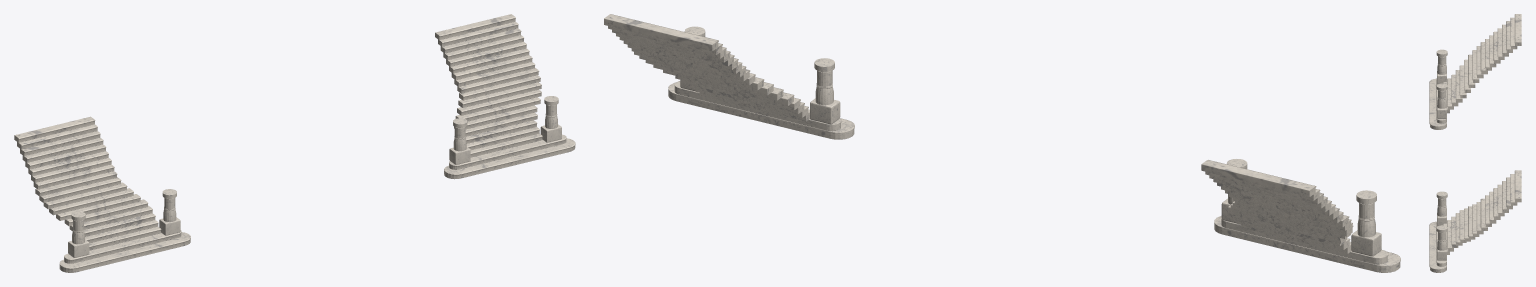
File: stairs_main_reversed.fbx
3 views of the same model, side by side, from view 1: azimuth 30°, elevation 25°; view 2: azimuth 150°, elevation 25°; view 3: azimuth 270°, elevation 25° (orthographic). The views are drawn at different scales.
Parts seen in each view (by area): view 1: stairs, stairs1, stair_round_big_long, stair_round_big_long1, stair_round_short1, stair_round_short, pillar_stairs_left, pillar_stairs_left1, pillar_stairs_right1, pillar_stairs_right; view 2: stairs, stairs1, stair_round_big_long, stair_round_big_long1, stair_round_short1, stair_round_short, pillar_stairs_right1, pillar_stairs_left, bottom_pillar_stairs_right1, bottom_pillar_stairs_left; view 3: stairs1, stairs, stair_round_big_long, stair_round_big_long1, pillar_stairs_left, pillar_stairs_left1, pillar_stairs_right, pillar_stairs_right1, stair_round_short, bottom_pillar_stairs_right, bottom_pillar_stairs_left1, stair_round_short1 (+2 smaller).
Part boxes in pixels (left/top/right/bottom): stairs: left=435, top=14, right=542, bottom=157; stairs1: left=14, top=116, right=161, bottom=250; stair_round_big_long: left=444, top=138, right=575, bottom=179; stair_round_big_long1: left=59, top=232, right=190, bottom=272; stair_round_short1: left=64, top=230, right=181, bottom=263; stair_round_short: left=449, top=134, right=566, bottom=169; pillar_stairs_left: left=453, top=118, right=467, bottom=151; pillar_stairs_left1: left=162, top=189, right=176, bottom=222; pillar_stairs_right1: left=71, top=211, right=85, bottom=244; pillar_stairs_right: left=544, top=96, right=558, bottom=128; stairs: left=604, top=14, right=809, bottom=121; stairs1: left=1201, top=160, right=1353, bottom=253; stair_round_big_long: left=668, top=82, right=854, bottom=139; stair_round_big_long1: left=1214, top=216, right=1400, bottom=272; stair_round_short1: left=1221, top=217, right=1388, bottom=264; stair_round_short: left=674, top=81, right=841, bottom=131; pillar_stairs_right1: left=1356, top=190, right=1376, bottom=237; pillar_stairs_left: left=814, top=58, right=834, bottom=105; bottom_pillar_stairs_right1: left=1351, top=230, right=1381, bottom=256; bottom_pillar_stairs_left: left=810, top=98, right=840, bottom=124; stairs1: left=1443, top=14, right=1521, bottom=113; stairs: left=1443, top=170, right=1521, bottom=254; stair_round_big_long: left=1429, top=221, right=1446, bottom=272; stair_round_big_long1: left=1429, top=78, right=1446, bottom=129; pillar_stairs_left: left=1436, top=191, right=1447, bottom=216; pillar_stairs_left1: left=1436, top=83, right=1447, bottom=108; pillar_stairs_right: left=1436, top=225, right=1447, bottom=250; pillar_stairs_right1: left=1436, top=49, right=1447, bottom=74; stair_round_short: left=1436, top=222, right=1446, bottom=266; bottom_pillar_stairs_right: left=1437, top=247, right=1446, bottom=260; bottom_pillar_stairs_left1: left=1437, top=105, right=1446, bottom=118; stair_round_short1: left=1436, top=78, right=1446, bottom=123.
Bounding box in the file's own units: 43.5 × 7.6 × 8.89.
Materials: 1 (1 with a texture image).
